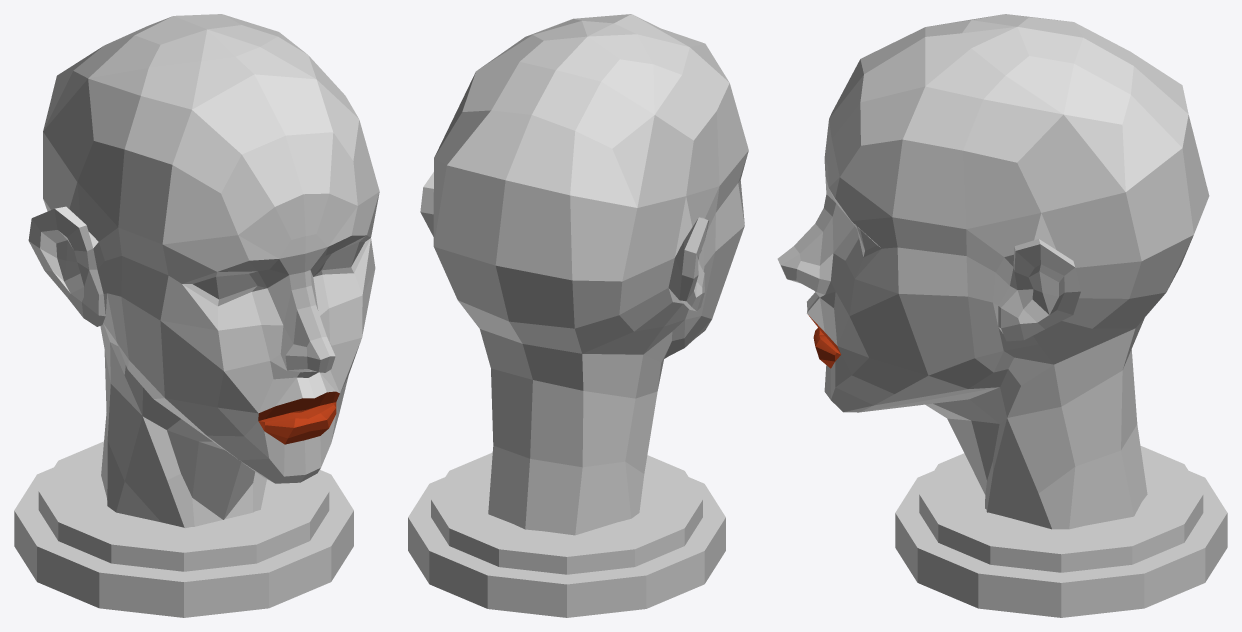
File: dama.fbx
The picture shows the model from 3 angles, left to right: view 1: azimuth 30°, elevation 25°; view 2: azimuth 150°, elevation 25°; view 3: azimuth 270°, elevation 25°; orthographic projection. The views are drawn at different scales.
Parts seen in each view (by area): view 1: low_poly_head1; view 2: low_poly_head1; view 3: low_poly_head1.
Part boxes in pixels (bbox=[...]): low_poly_head1: bbox=[14, 14, 379, 617]; low_poly_head1: bbox=[408, 14, 748, 617]; low_poly_head1: bbox=[777, 14, 1227, 617].
Bounding box in the file's own units: 37.37 × 64.69 × 50.62.
